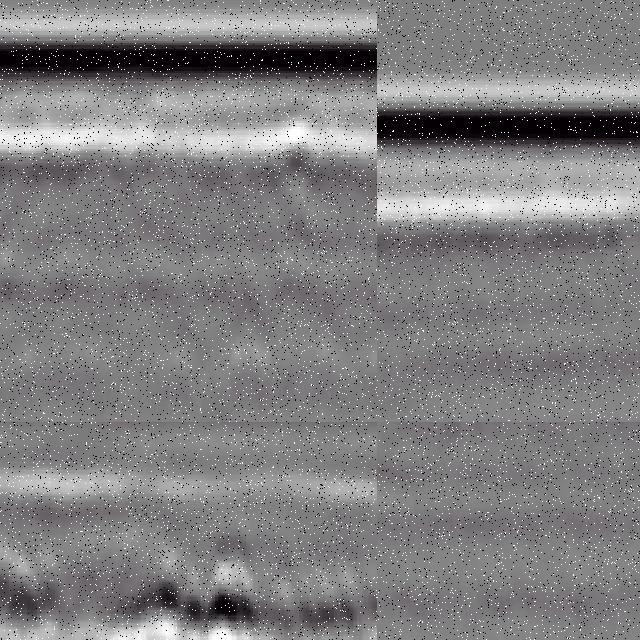loose: (115, 549, 296, 640)
